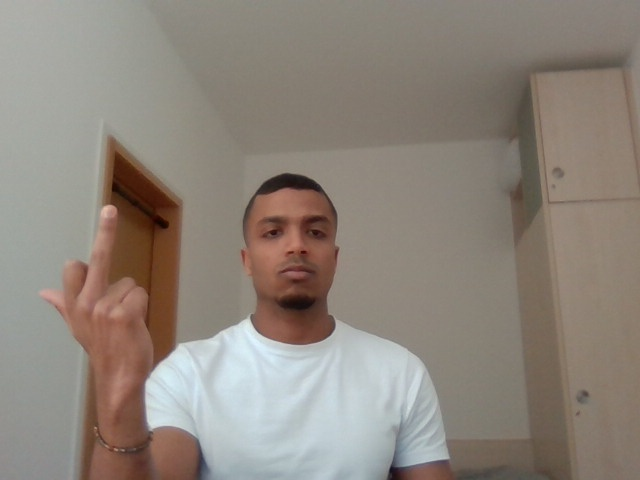fuckyou: (46, 200, 172, 409)
